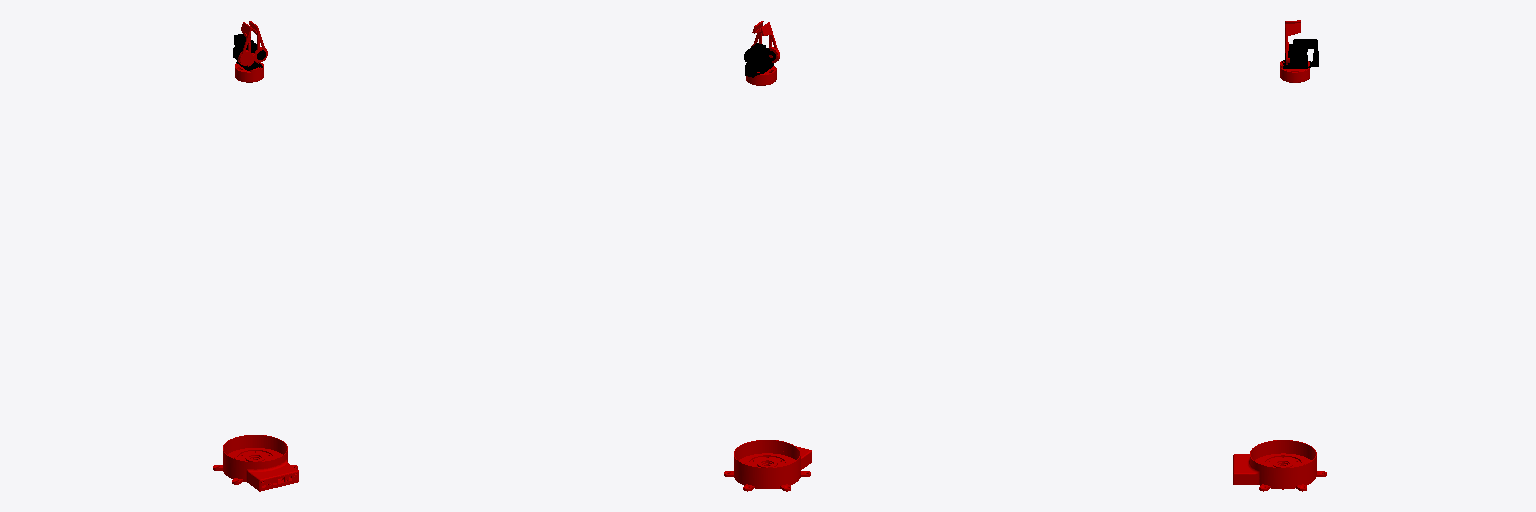
robot.urdf — hek_5L_1.3:
<?xml version="1.0"?>
<robot name="hek_5L_1.3">

  <link name="base_fixed">
    <visual>
      <origin xyz="0 0 0" rpy="0 0 0"/>
      <geometry>
        <mesh filename="package://hekateros_desc/stl/hek_5L_1.3/base_fixed.stl" 
              scale="0.001 0.001 0.001"
        />
      </geometry>
      <material name="red">
        <color rgba="0.8 0 0 0.7"/>
      </material>
    </visual>
  </link>

  <link name="base">
    <visual>
      <origin xyz="0.03 -0.075 0.01" rpy="0 3.14 -1.575"/>
      <geometry>
        <mesh filename="package://hekateros_desc/stl/hek_5L_1.3/base.stl" 
              scale="0.001 0.001 0.001"
        />
      </geometry>
      <material name="black">
        <color rgba="0 0 0 0.7"/>
      </material>
    </visual>
  </link>

  <link name="upper_arm">
    <visual>
      <origin xyz="0.0 0.02 0.18" rpy="1.5705 1.5705 -1.5705"/>
      <geometry>
        <mesh filename="package://hekateros_desc/stl/hek_5L_1.3/upper_arm.stl" 
              scale="0.001 0.001 0.001"
        />
      </geometry>
      <material name="red">
        <color rgba="0.8 0 0 0.9"/>
      </material>
    </visual>
  </link>

  <link name="forearm">
    <visual>
      <origin xyz="0. 0.0 0.03" rpy="03.1415 0 1.5705"/>
      <geometry>
        <mesh filename="package://hekateros_desc/stl/hek_5L_1.3/forearm.stl" 
              scale="0.001 0.001 0.001"
        />
      </geometry>
      <material name="red">
        <color rgba="0.8 0 0 0.9"/>
      </material>
    </visual>
  </link>

  <link name="wrist_link">
    <visual>
      <origin xyz="0.0 0 -0.017" rpy="0 0 0"/>
      <geometry>
        <mesh filename="package://hekateros_desc/stl/hek_5L_1.3/wrist.stl" 
              scale="0.001 0.001 0.001"
        />
      </geometry>
      <material name="black">
        <color rgba="0 0 0 0.9"/>
      </material>
    </visual>
  </link>

  <link name="tool_zero">
    <visual>
      <origin xyz="0 0.06 0" rpy="3.14159 0 0"/>
      <geometry>
        <mesh filename="package://hekateros_desc/stl/hek_5L_1.3/tool_zero.stl" 
              scale="0.001 0.001 0.001"
        />
      </geometry>
      <material name="red">
        <color rgba="0.8 0 0 0.9"/>
      </material>
    </visual>
  </link>

  <joint name="base_rot" type="continuous">
    <origin xyz="0 0 0.055" rpy="0 0 0"/>
    <axis xyz="0 0 1"/>
    <parent link="base_fixed"/>
    <child link="base"/>

    <!-- velocity 200 deg/sec [-->
    <limit effort="30" velocity="3.491" />
  </joint>

  <joint name="shoulder" type="revolute">
    <origin xyz="0.02 0.03 0.125" rpy="0 0 0"/>
    <axis xyz="-1 0 0"/>
    <parent link="base"/>
    <child link="upper_arm"/>

    <!-- velocity 80 deg/sec, range(deg) [-69.9.0, 112.9]-->
    <limit effort="30" velocity="1.396" lower="-1.220" upper="1.970" />
  </joint>

  <joint name="elbow" type="revolute">
    <origin xyz="-0.015 0.0 0.405" rpy="0 0 0"/>
    <axis xyz="-1 0 0"/>
    <parent link="upper_arm"/>
    <child link="forearm"/>

    <!-- velocity 80 deg/sec, range(deg) [-131.0, 131.0]-->
    <limit effort="30" velocity="1.396" lower="-2.286" upper="2.286" />
  </joint>

  <joint name="wrist_pitch" type="revolute">
    <origin xyz="-0.005 0 0.40" rpy="0 0 0"/>
    <axis xyz="-1 0 0"/>
    <parent link="forearm"/>
    <child link="wrist_link"/>

    <!-- velocity 80 deg/sec, range(deg) [-90.0, 90.9]-->
    <limit effort="30" velocity="1.396" lower="-1.571" upper="1.571" />
  </joint>

  <joint name="wrist_rot" type="continuous">
    <origin xyz="0 0 0.025" rpy="0 0 0"/>
    <axis xyz="0 0 1"/>
    <parent link="wrist_link"/>
    <child link="tool_zero"/>

    <!-- velocity 100 deg/sec -->
    <limit effort="30" velocity="1.745" lower="-1.57" upper="1.57" />
  </joint>

  <!-- EEF -->
  <link name="gear_assembly">
    <visual>
      <origin xyz="0 0 0.02" rpy="0 -1.575 3.14159"/>
      <geometry>
        <mesh filename="package://hekateros_desc/stl/graboid/gear_assembly.stl" 
              scale="0.001 0.001 0.001"
        />
      </geometry>
      <material name="black">
        <color rgba="0 0 0 0.7"/>
      </material>
    </visual>
  </link>

  <link name="finger_R">
    <visual>
      <origin xyz="0 0 0" rpy="0 0 -1.7"/>
      <geometry>
        <mesh filename="package://hekateros_desc/stl/graboid/finger_R.stl" 
              scale="0.001 0.001 0.001"
        />
      </geometry>
      <material name="red">
        <color rgba="0.8 0 0 0.9"/>
      </material>
    </visual>
  </link>

  <link name="finger_L">
    <visual>
      <origin xyz="0 0 0" rpy="0 -3.141 -1.575"/>
      <geometry>
        <mesh filename="package://hekateros_desc/stl/graboid/finger_L.stl" 
              scale="0.001 0.001 0.001"
        />
      </geometry>
      <material name="red">
        <color rgba="0.8 0 0 0.9"/>
      </material>
    </visual>
  </link>

  <joint name="grip" type="revolute">
    <axis xyz="0 0 -1"/>
    <origin xyz="0.005 -0.04 0.03" rpy="0 -1.575 0"/>
    <parent link="gear_assembly"/>
    <child link="finger_R"/>

    <!-- velocity 80 deg/sec, range(deg) [-1.0, 59.9]-->
    <limit effort="30" velocity="1.396" lower="-0.017" upper="1.045" />
  </joint>

  <joint name="grip_mimic" type="revolute">
    <axis xyz="0 0 1"/>
    <origin xyz="0.0 0.0 0.03" rpy="0 -1.575 0"/>
    <parent link="gear_assembly"/>
    <child link="finger_L"/>
    <limit effort="30" velocity="1.0" lower="-1.57" upper="1.57" />
    <mimic joint="grip"/>
  </joint>


  <joint name="eef_connect" type="fixed">
    <origin xyz="-0.02 -0.025 0.03" rpy="0 0 1.575"/>
    <parent link="tool_zero"/>
    <child link="gear_assembly"/>
  </joint>

</robot>

--- Facts derived from the render (not from the file) ---
Views: 3 orthographic renders of the robot side by side, from view 1: azimuth 30°, elevation 25°; view 2: azimuth 150°, elevation 25°; view 3: azimuth 270°, elevation 25°.
Model hek_5L_1.3 with 9 links and 8 joints (5 revolute, 2 continuous, 1 fixed), rooted at base_fixed, posed every joint at zero.
Visible links, largest first — view 1: base_fixed; view 2: base_fixed, gear_assembly; view 3: base_fixed, gear_assembly.
Link boxes in pixels (<box>): base_fixed: <box>213,435,298,491</box>; base_fixed: <box>724,440,811,491</box>; gear_assembly: <box>744,43,775,77</box>; base_fixed: <box>1233,440,1326,491</box>; gear_assembly: <box>1282,39,1318,68</box>.
Bounding box of the posed robot: 0.1759 × 0.215 × 1.15 m (x, y, z).
5 mesh visuals loaded from 9 distinct referenced files (5 binary STL); not drawn: 4 (reference not matched to a file when rendering).
